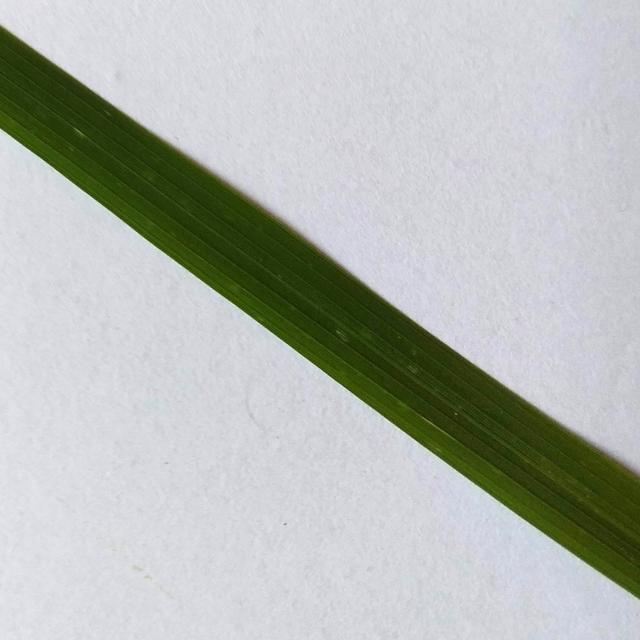Rice_Healthy: (0, 28, 640, 597)
